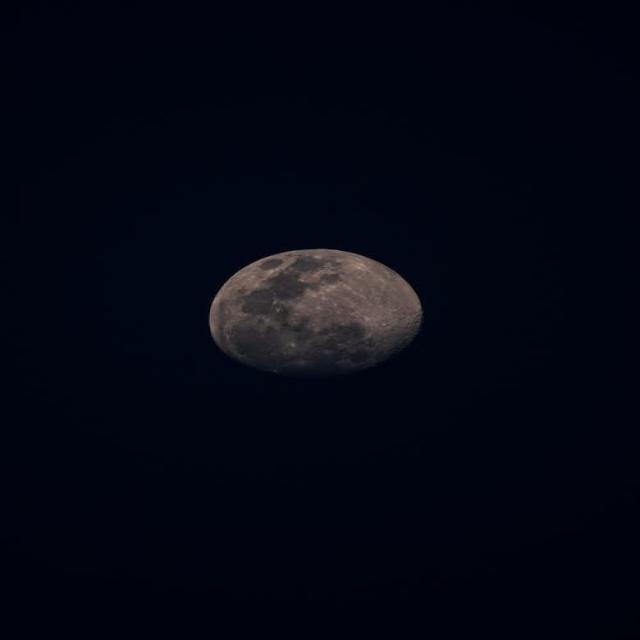moon: (196, 236, 442, 398)
